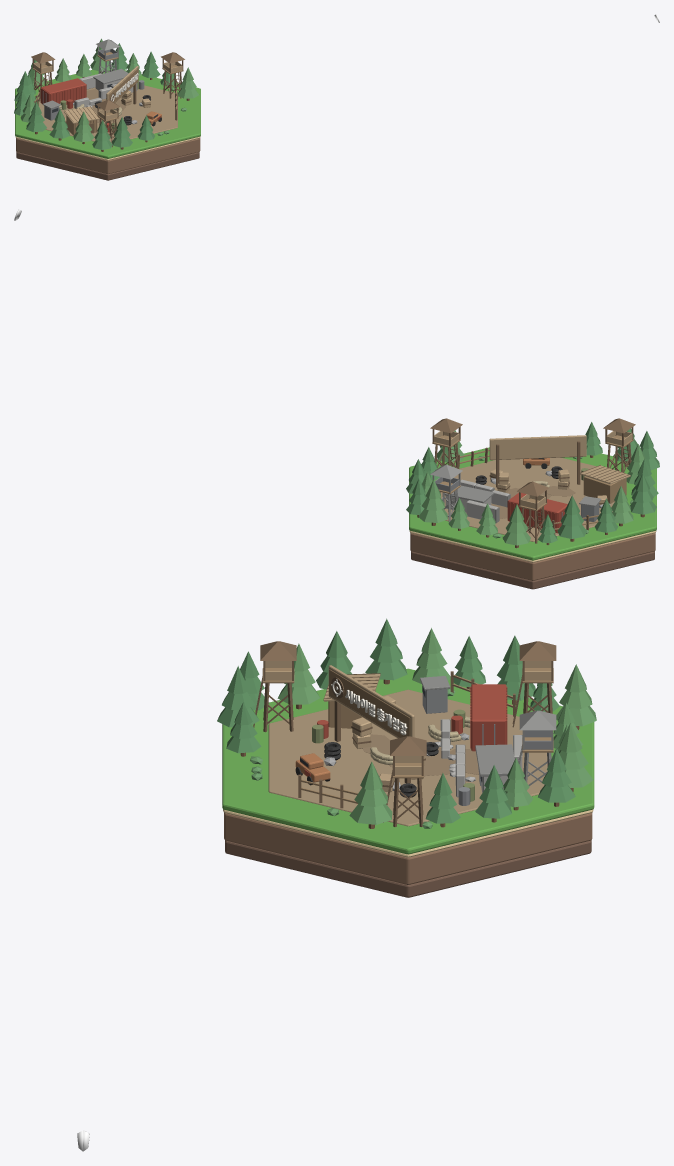
File: survival.glb
3 views of the same model, one above another, from view 1: azimuth 30°, elevation 25°; view 2: azimuth 150°, elevation 25°; view 3: azimuth 270°, elevation 25° (orthographic). The views are drawn at different scales.
Visible parts, largest first — view 1: TileTop, TileSoil, DirtYard, TileBottom, Container_Red, Watchtower_1, Sign_SurvivalField, Watchtower_2, WoodShed, Watchtower_4, Watchtower_3, ConcreteBunker (+11 smaller); view 2: TileTop, TileSoil, DirtYard, Sign_SurvivalField, TileBottom, WoodShed, Watchtower_3, Watchtower_1, Watchtower_2, Container_Red, Watchtower_4, Pine_10 (+5 smaller); view 3: TileTop, DirtYard, TileSoil, TileBottom, Sign_SurvivalField, Container_Red, Watchtower_3, Watchtower_1, Watchtower_2, Watchtower_4, Pine_19, Pine_13 (+17 smaller).
Boxes of the visible parts, bbox=[...] form: TileTop: bbox=[15, 69, 200, 158]; TileSoil: bbox=[16, 138, 200, 174]; DirtYard: bbox=[38, 85, 177, 142]; TileBottom: bbox=[16, 152, 199, 180]; Container_Red: bbox=[40, 78, 86, 104]; Watchtower_1: bbox=[161, 52, 184, 98]; Sign_SurvivalField: bbox=[106, 66, 138, 122]; Watchtower_2: bbox=[31, 52, 55, 98]; WoodShed: bbox=[64, 106, 99, 135]; Watchtower_4: bbox=[96, 39, 120, 73]; Watchtower_3: bbox=[96, 99, 120, 147]; ConcreteBunker: bbox=[93, 68, 128, 90]; TileTop: bbox=[409, 447, 656, 560]; TileSoil: bbox=[410, 533, 655, 580]; DirtYard: bbox=[440, 457, 614, 541]; Sign_SurvivalField: bbox=[489, 435, 586, 487]; TileBottom: bbox=[411, 551, 654, 589]; WoodShed: bbox=[580, 465, 630, 503]; Watchtower_3: bbox=[603, 418, 635, 472]; Watchtower_1: bbox=[430, 418, 462, 468]; Watchtower_2: bbox=[517, 481, 549, 543]; Container_Red: bbox=[507, 493, 567, 533]; Watchtower_4: bbox=[430, 464, 462, 522]; Pine_10: bbox=[557, 495, 587, 541]; TileTop: bbox=[222, 668, 594, 854]; DirtYard: bbox=[268, 689, 547, 826]; TileSoil: bbox=[224, 812, 592, 884]; TileBottom: bbox=[225, 840, 591, 897]; Sign_SurvivalField: bbox=[328, 665, 414, 783]; Container_Red: bbox=[470, 684, 507, 751]; Watchtower_3: bbox=[253, 641, 296, 732]; Watchtower_1: bbox=[383, 736, 426, 826]; Watchtower_2: bbox=[512, 641, 556, 727]; Watchtower_4: bbox=[518, 710, 556, 785]; Pine_19: bbox=[349, 761, 392, 828]; Pine_13: bbox=[365, 618, 407, 684].
Size of the model in its own units: 15.23 by 1.76 by 6.08.
